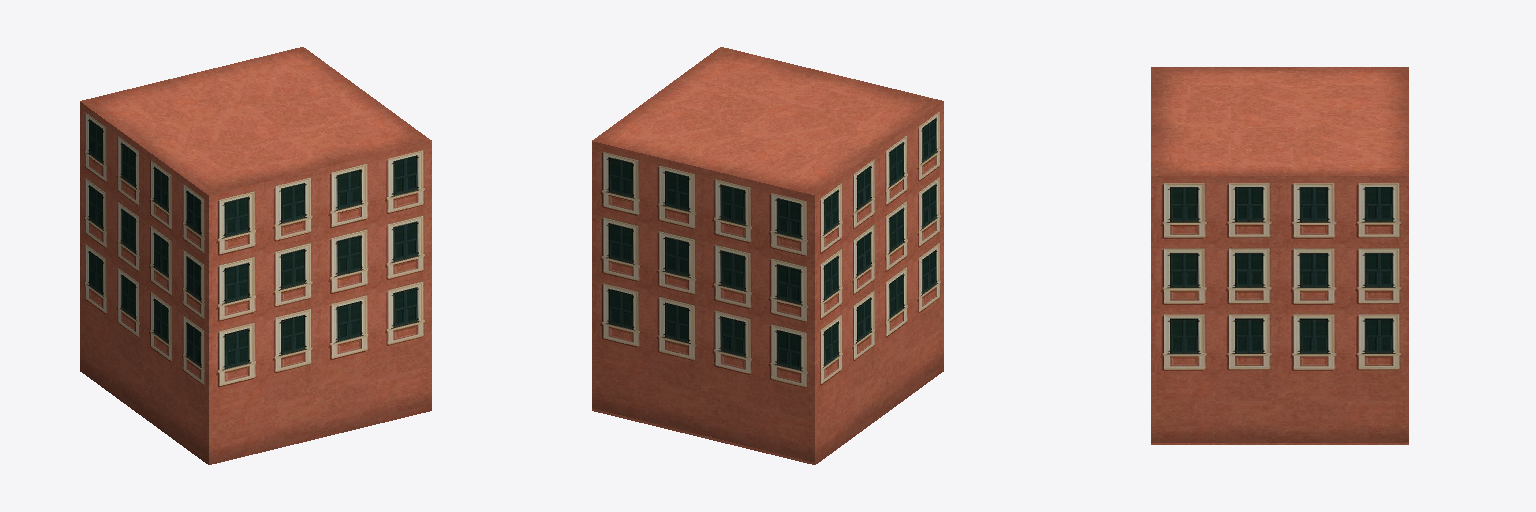
3 views of the same model, side by side, from view 1: azimuth 30°, elevation 25°; view 2: azimuth 150°, elevation 25°; view 3: azimuth 270°, elevation 25° (orthographic).
Visible parts, largest first — view 1: Cube.001_Cube; view 2: Cube.001_Cube; view 3: Cube.001_Cube.
Boxes of the visible parts, box(x1,y1,x2,y2) form: Cube.001_Cube: box(80, 47, 431, 464); Cube.001_Cube: box(592, 47, 943, 464); Cube.001_Cube: box(1151, 67, 1408, 444).
Bounding box in the file's own units: 11.18 × 12.89 × 11.18.
Materials: 1 (1 with a texture image).